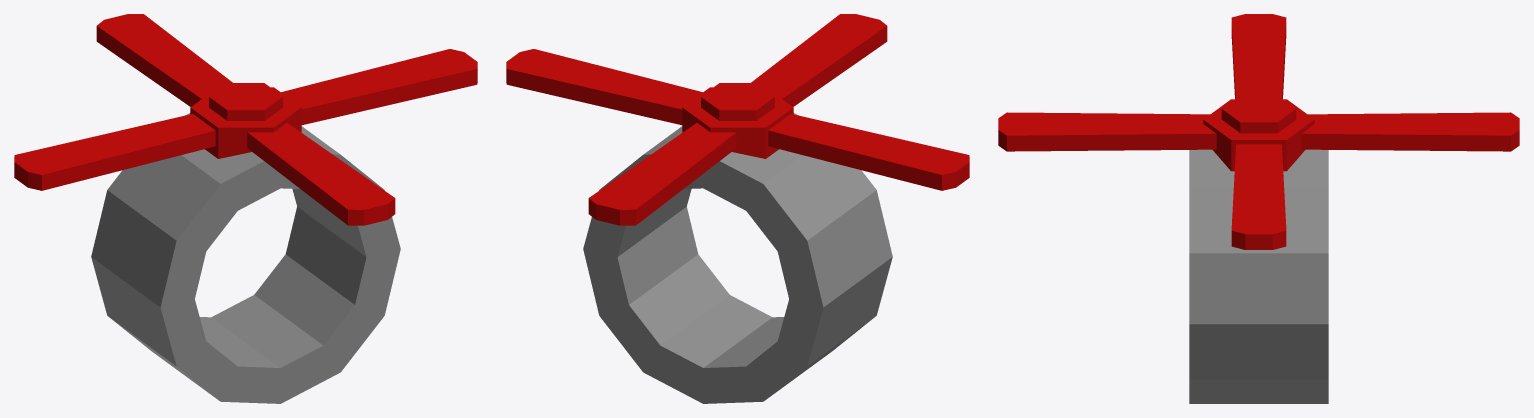
The model's file is Prop_Industrial_Pipe_Valve_02.FBX.
3 renders of one model, left to right at view 1: azimuth 30°, elevation 25°; view 2: azimuth 150°, elevation 25°; view 3: azimuth 270°, elevation 25°, orthographic.
Visible parts, largest first — view 1: Prop_Industrial_Pipe_Valve_02; view 2: Prop_Industrial_Pipe_Valve_02; view 3: Prop_Industrial_Pipe_Valve_02.
Boxes of the visible parts, x1,y1,x2,y2 form: Prop_Industrial_Pipe_Valve_02: (14, 14, 477, 403); Prop_Industrial_Pipe_Valve_02: (506, 14, 969, 403); Prop_Industrial_Pipe_Valve_02: (998, 14, 1519, 403).
Size of the model in its own units: 786 by 471 by 786.
